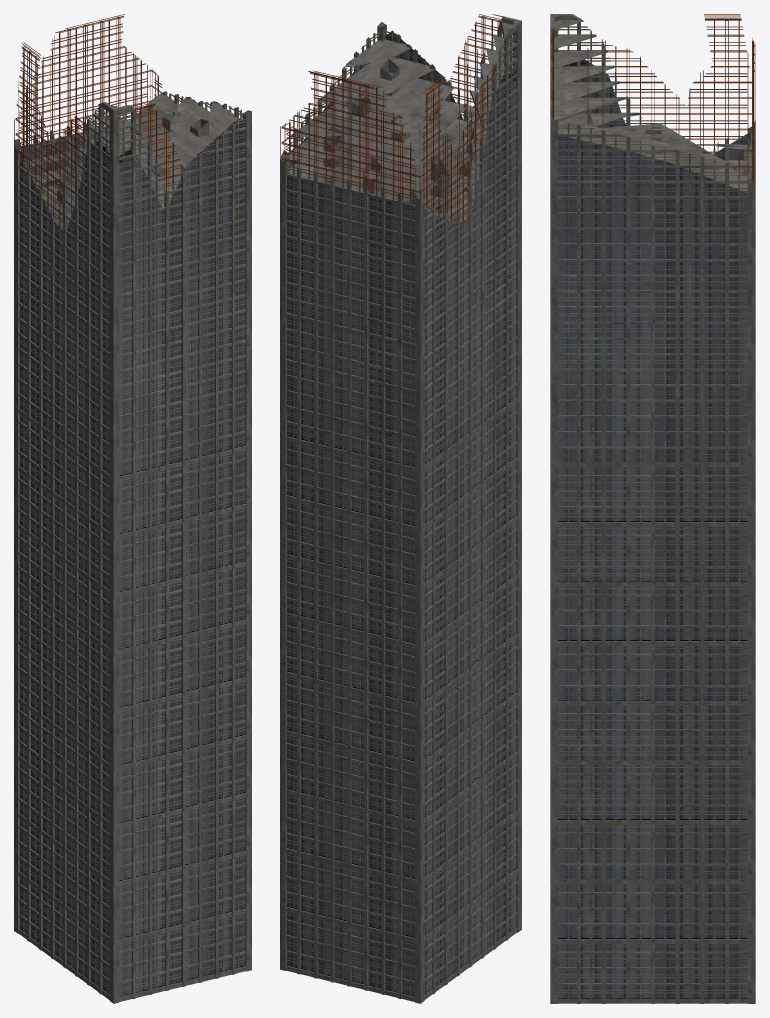
File: building_07.glb
3 views of the same model, side by side, from view 1: azimuth 30°, elevation 25°; view 2: azimuth 150°, elevation 25°; view 3: azimuth 270°, elevation 25° (orthographic). The views are drawn at different scales.
Visible parts, largest first — view 1: Building 07; view 2: Building 07; view 3: Building 07.
Boxes of the visible parts, x1=… form: Building 07: x1=14, y1=14, x2=251, y2=1003; Building 07: x1=280, y1=14, x2=521, y2=1003; Building 07: x1=550, y1=14, x2=755, y2=1003.
Size of the model in its own units: 50 by 309 by 62.5.
Materials: 3 (3 with a texture image).
